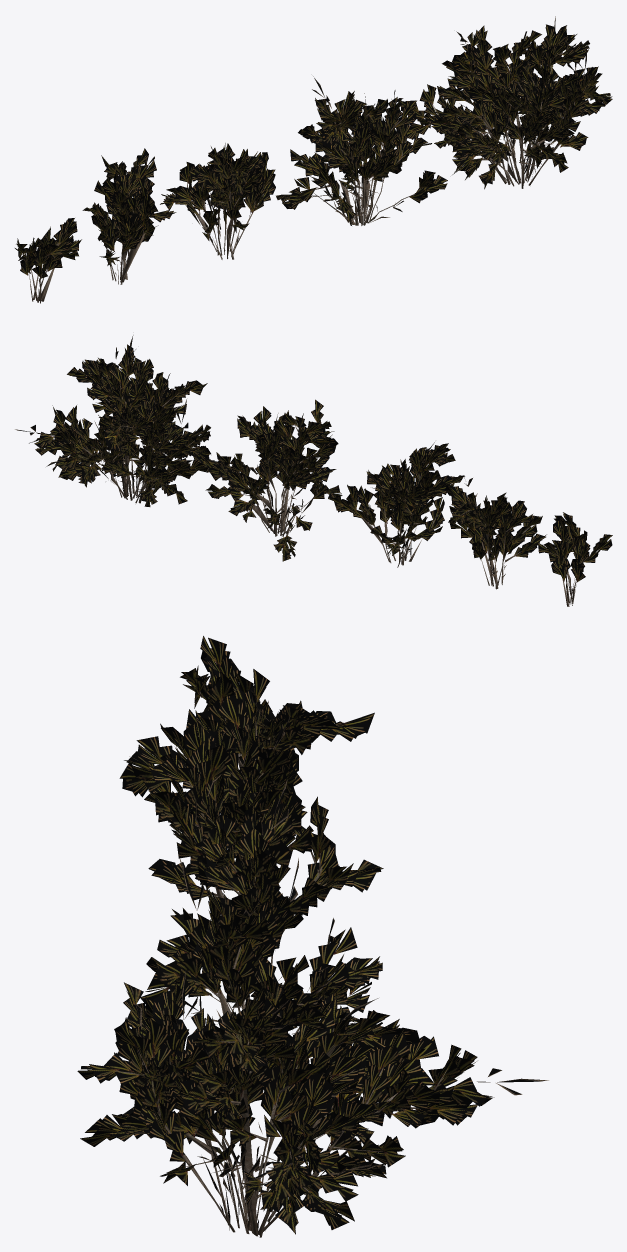
The model's file is wild_rooibos_bush.glb.
The picture shows the model from 3 angles, top to bottom: view 1: azimuth 30°, elevation 25°; view 2: azimuth 150°, elevation 25°; view 3: azimuth 270°, elevation 25°; orthographic projection. The views are drawn at different scales.
Parts seen in each view (by area): view 1: wild_rooibos_bush_a, wild_rooibos_bush_b, wild_rooibos_bush_c, wild_rooibos_bush_d, wild_rooibos_bush_e; view 2: wild_rooibos_bush_a, wild_rooibos_bush_b, wild_rooibos_bush_c, wild_rooibos_bush_d, wild_rooibos_bush_e; view 3: wild_rooibos_bush_a, wild_rooibos_bush_b, wild_rooibos_bush_c, wild_rooibos_bush_d, wild_rooibos_bush_e.
Part boxes in pixels (bbox=[...]): wild_rooibos_bush_a: bbox=[398, 16, 612, 189]; wild_rooibos_bush_b: bbox=[276, 76, 447, 225]; wild_rooibos_bush_c: bbox=[160, 143, 275, 259]; wild_rooibos_bush_d: bbox=[82, 148, 176, 284]; wild_rooibos_bush_e: bbox=[15, 218, 81, 303]; wild_rooibos_bush_a: bbox=[15, 335, 218, 506]; wild_rooibos_bush_b: bbox=[205, 399, 342, 561]; wild_rooibos_bush_c: bbox=[328, 442, 464, 567]; wild_rooibos_bush_d: bbox=[445, 475, 546, 589]; wild_rooibos_bush_e: bbox=[538, 512, 612, 606]; wild_rooibos_bush_a: bbox=[77, 959, 548, 1237]; wild_rooibos_bush_b: bbox=[140, 779, 382, 1056]; wild_rooibos_bush_c: bbox=[119, 719, 383, 964]; wild_rooibos_bush_d: bbox=[160, 669, 374, 861]; wild_rooibos_bush_e: bbox=[180, 636, 272, 778].
Size of the model in its own units: 2.27 by 0.5439 by 0.8433.
Materials: 3 (3 with a texture image).
